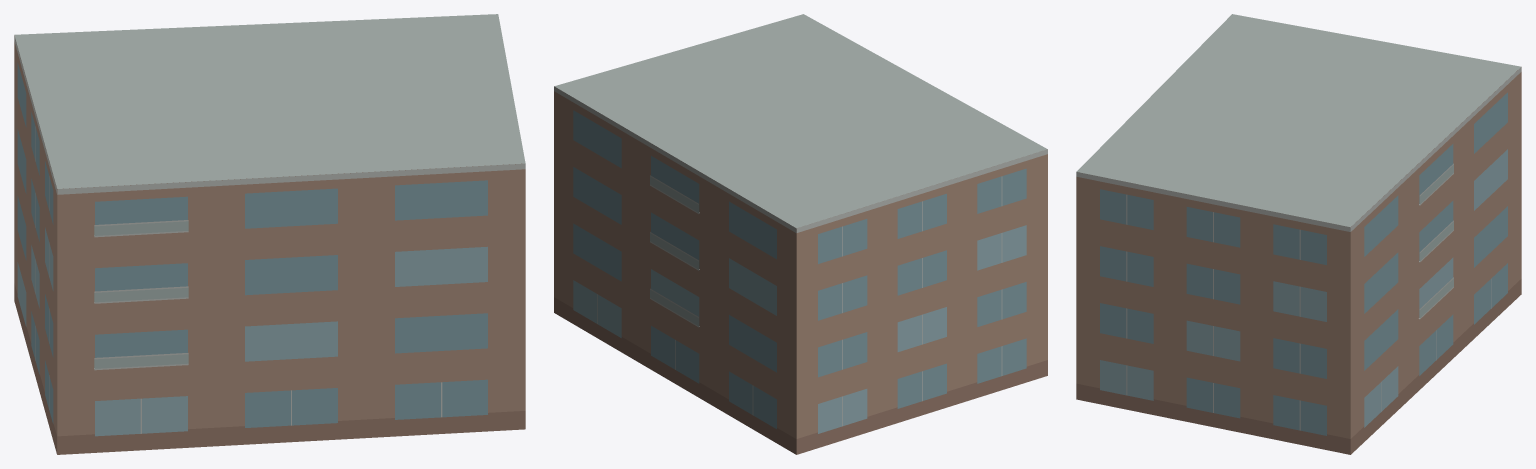
Rendered from survey-upis-32527614.glb.
The picture shows the model from 3 angles, left to right: view 1: azimuth 30°, elevation 25°; view 2: azimuth 150°, elevation 25°; view 3: azimuth 270°, elevation 25°; orthographic projection. The views are drawn at different scales.
Visible parts, largest first — view 1: survey-upis-32527614.tmp; view 2: survey-upis-32527614.tmp; view 3: survey-upis-32527614.tmp.
Boxes of the visible parts, x1,y1,x2,y2 form: survey-upis-32527614.tmp: (14, 14, 525, 454); survey-upis-32527614.tmp: (554, 14, 1047, 454); survey-upis-32527614.tmp: (1076, 14, 1521, 454).
Size of the model in its own units: 22.71 by 11.3 by 20.03.
